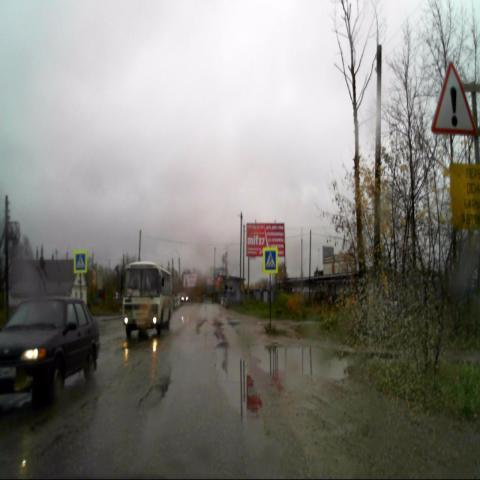1_33: (431, 60, 477, 137)
